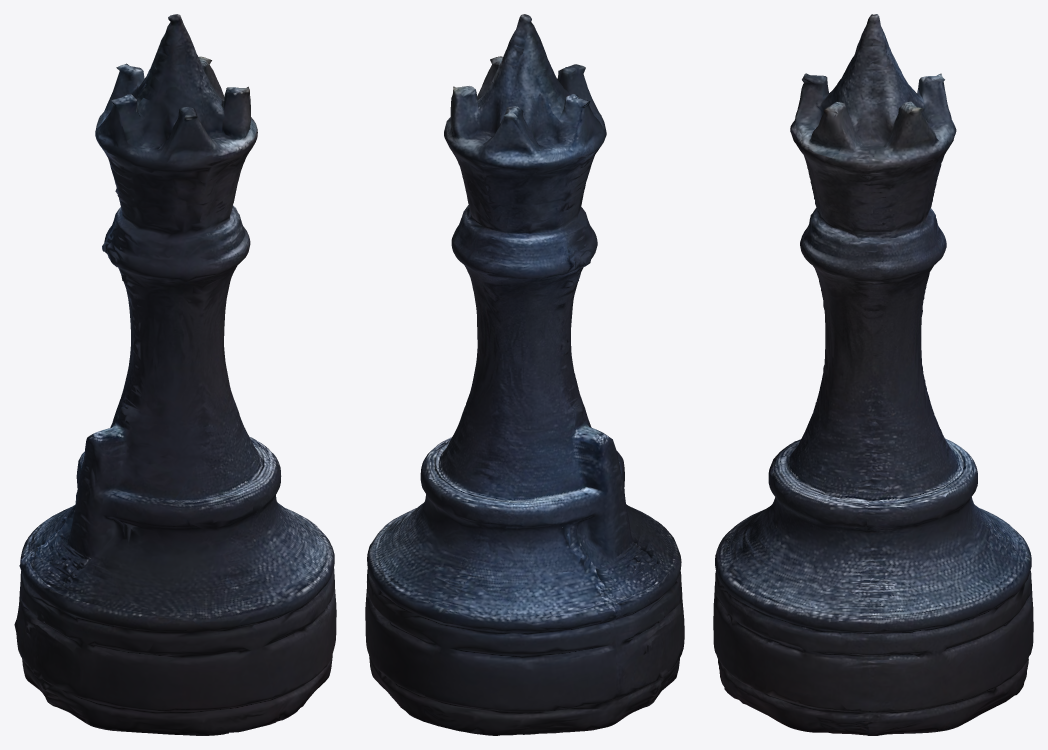
The model's file is queen.glb.
3 renders of one model, left to right at view 1: azimuth 30°, elevation 25°; view 2: azimuth 150°, elevation 25°; view 3: azimuth 270°, elevation 25°, orthographic.
Parts seen in each view (by area): view 1: tripo_node_9d500a29-6afa-42b0-9dc5-fa86bc389ad2; view 2: tripo_node_9d500a29-6afa-42b0-9dc5-fa86bc389ad2; view 3: tripo_node_9d500a29-6afa-42b0-9dc5-fa86bc389ad2.
Boxes of the visible parts, x1,y1,x2,y2 form: tripo_node_9d500a29-6afa-42b0-9dc5-fa86bc389ad2: (14, 14, 336, 735); tripo_node_9d500a29-6afa-42b0-9dc5-fa86bc389ad2: (365, 14, 684, 735); tripo_node_9d500a29-6afa-42b0-9dc5-fa86bc389ad2: (713, 14, 1033, 735).
Size of the model in its own units: 0.4339 by 0.9789 by 0.4314.
1 material, 1 textured.
